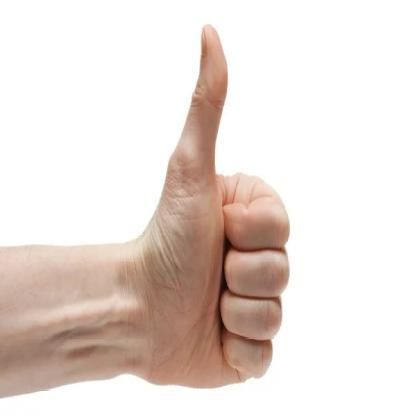thumb_up: (138, 20, 292, 390)
